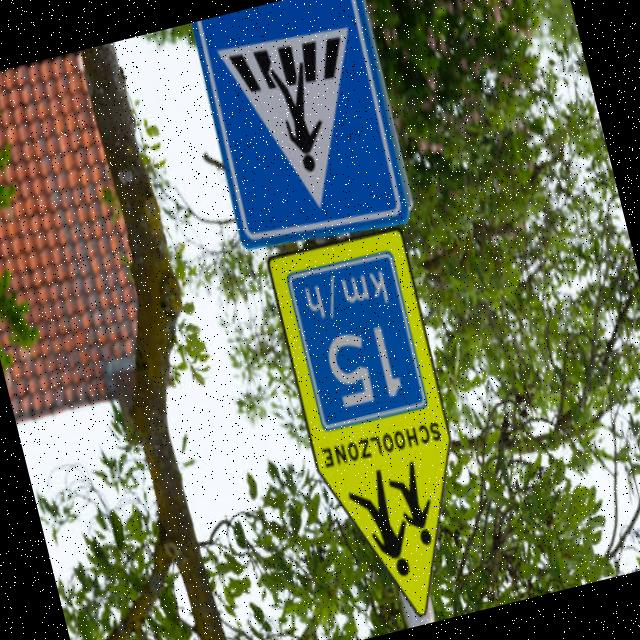crosswalk: (179, 0, 422, 265)
